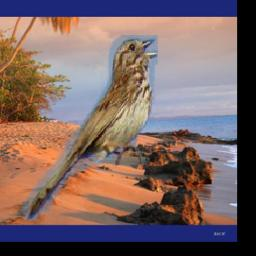Sparrow: (19, 36, 158, 222)
